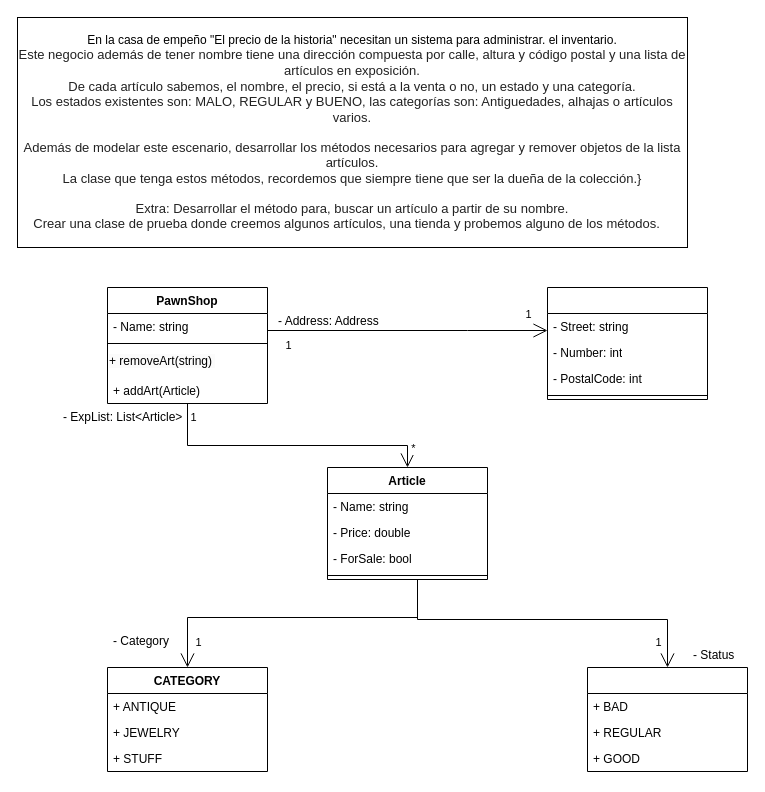
This 765x792 diagram has some shape labels left out. Here are the shapes that lost their labels. From the top down, the box of each, then its label:
(546, 286, 708, 400): Address
(586, 666, 748, 772): STATUS
